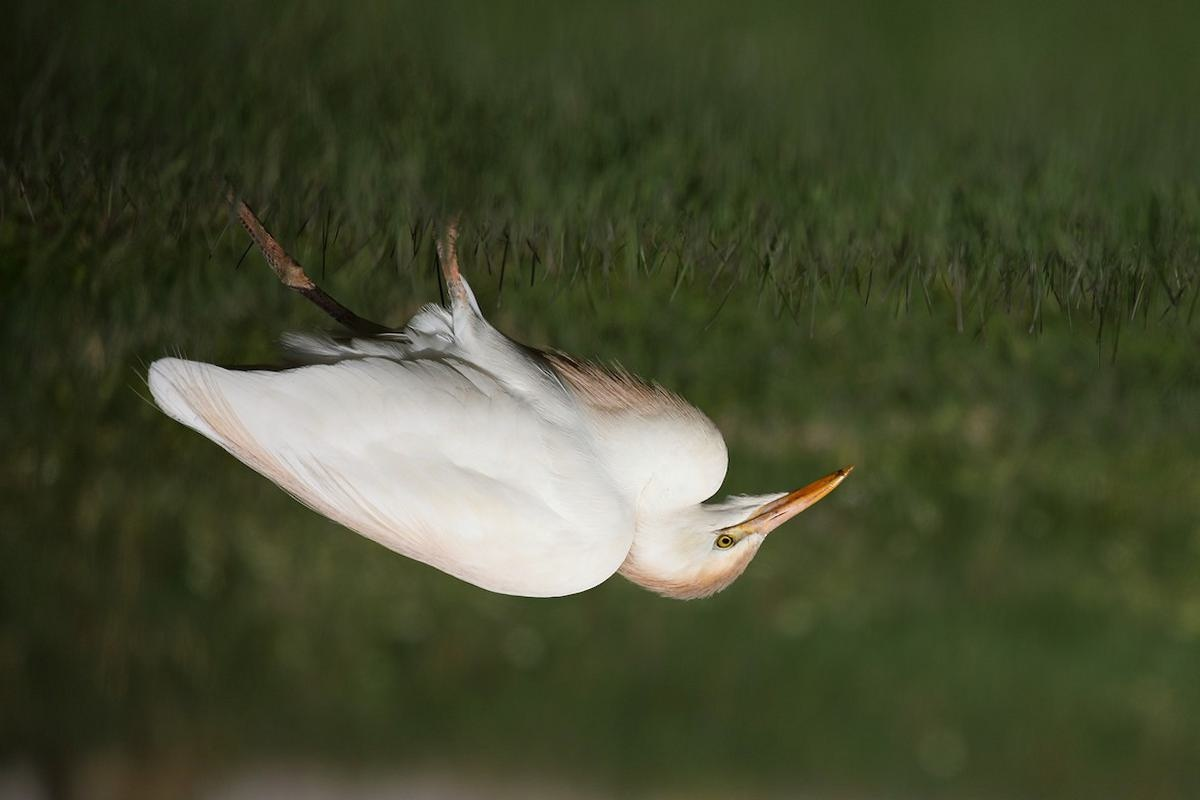egret: (158, 229, 879, 637)
